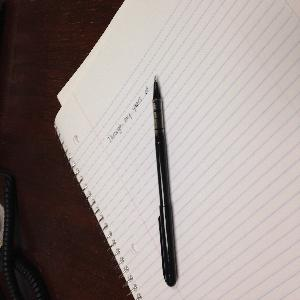pen: (140, 73, 180, 289)
